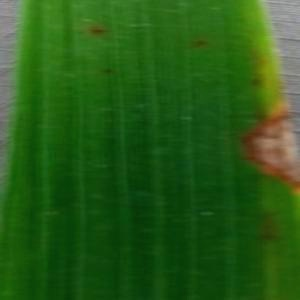Brown_Spot: (224, 95, 300, 204)
